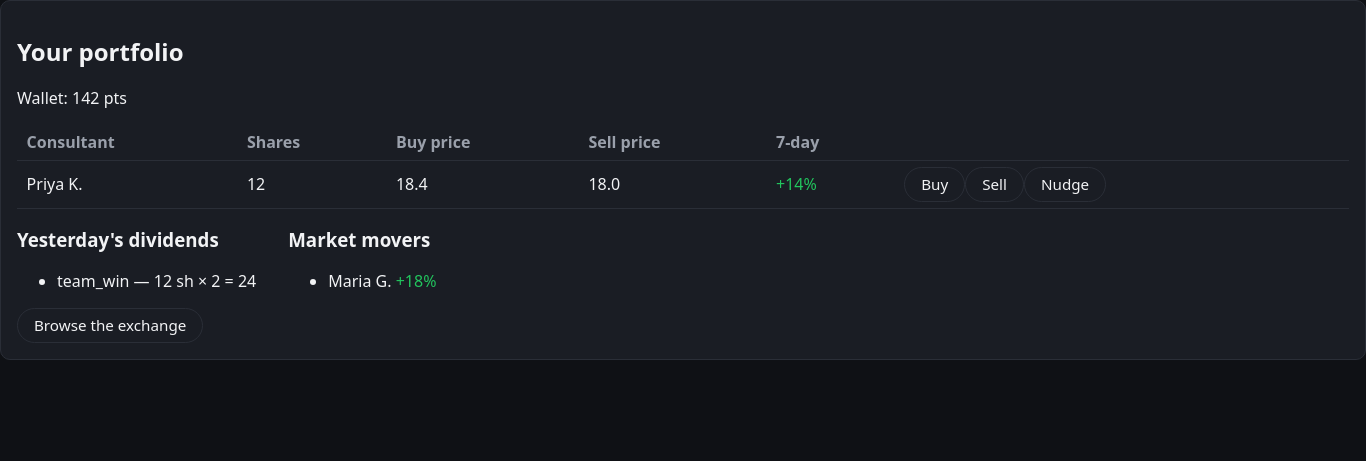
Scenario: Portfolio › lets a user browse the exchange to discover an unheld consultant
Expected: the text "Chen W." is not shown
Click the button "Browse the exchange": click(110, 325) [17,308,203,343]
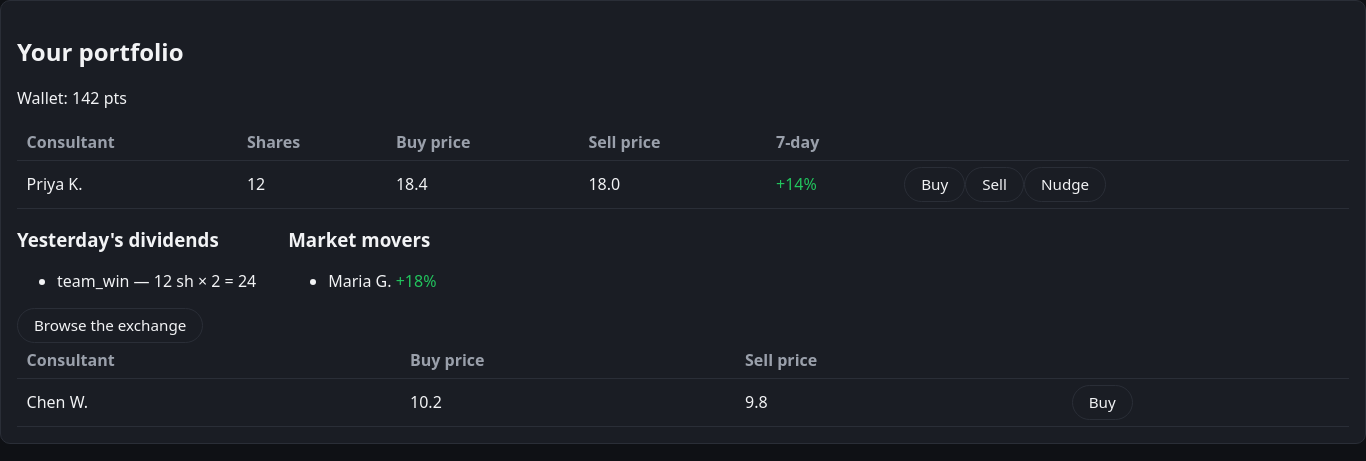
Result: the text "Chen W." is shown at [17,378,400,427]
